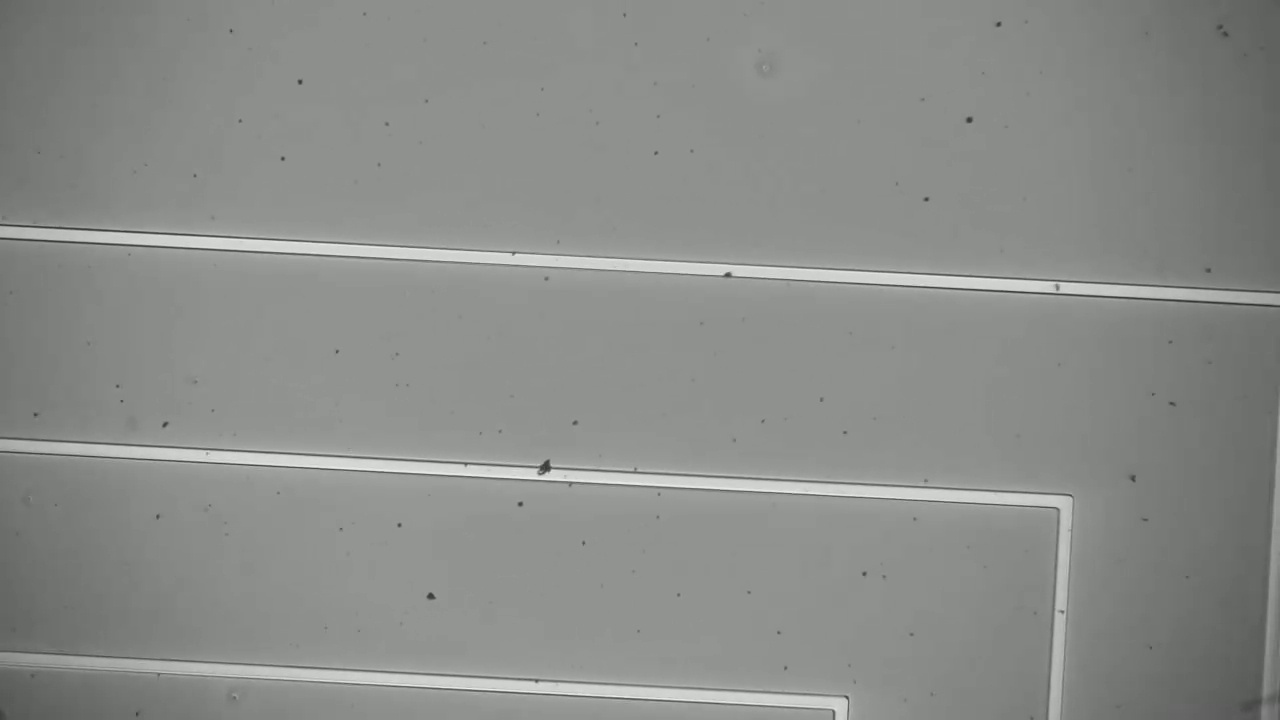stains_enbedded: (527, 454, 557, 491)
